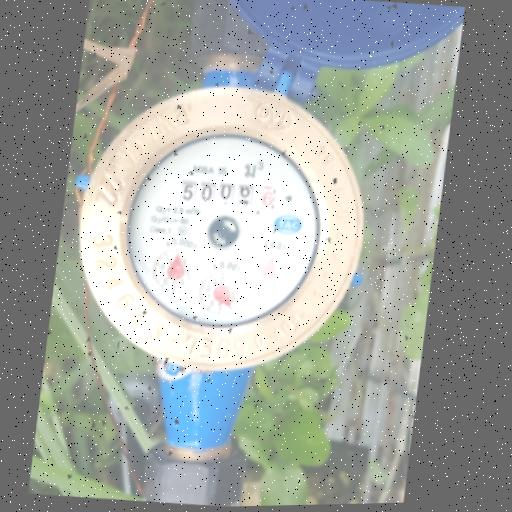0: (199, 182, 216, 204), (219, 184, 235, 206)
5: (180, 181, 198, 203)
6: (260, 185, 276, 210), (238, 185, 254, 207)
border_water_meter_number: (177, 177, 278, 213)
